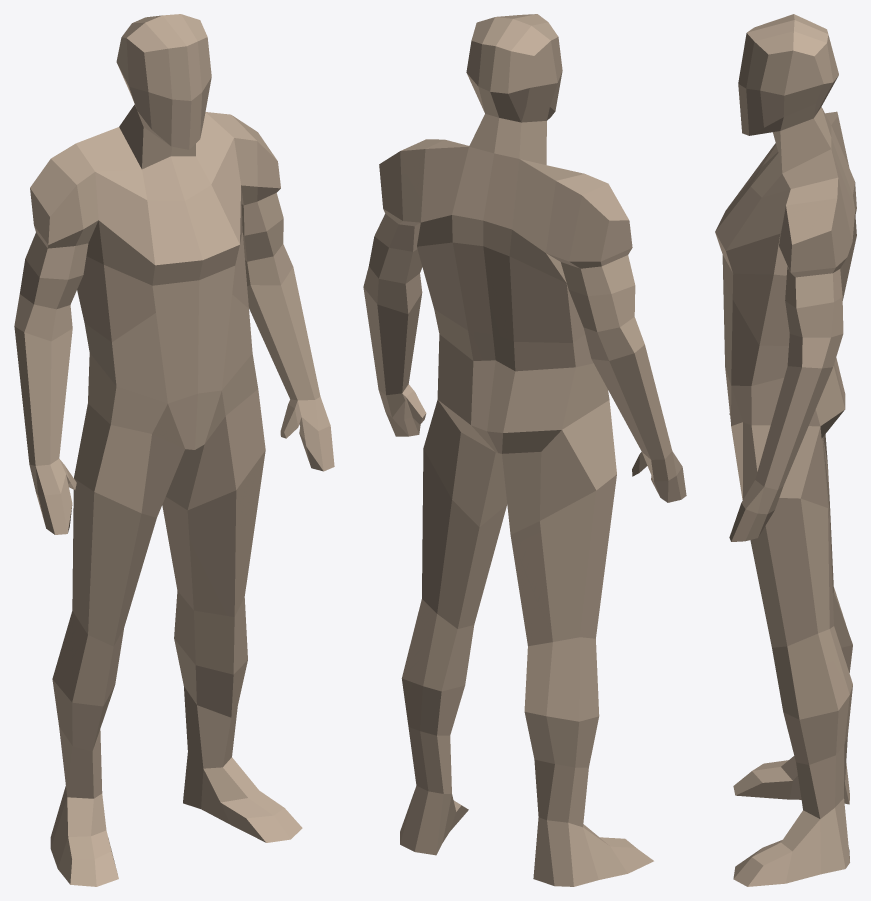
File: MaleBase.glb
The picture shows the model from 3 angles, left to right: view 1: azimuth 30°, elevation 25°; view 2: azimuth 150°, elevation 25°; view 3: azimuth 270°, elevation 25°; orthographic projection. The views are drawn at different scales.
Parts seen in each view (by area): view 1: Cube_Material.001_0; view 2: Cube_Material.001_0; view 3: Cube_Material.001_0.
Part boxes in pixels (<box>): Cube_Material.001_0: <box>14,14,334,886</box>; Cube_Material.001_0: <box>363,14,686,886</box>; Cube_Material.001_0: <box>715,14,856,886</box>.
Size of the model in its own units: 0.7989 by 2.2 by 0.3478.
